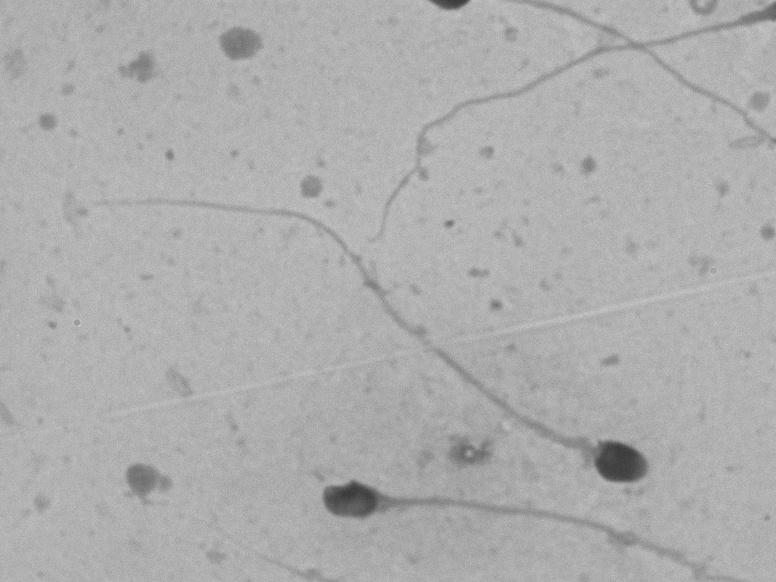Abnormal: (51, 175, 662, 495), (303, 467, 709, 574)
